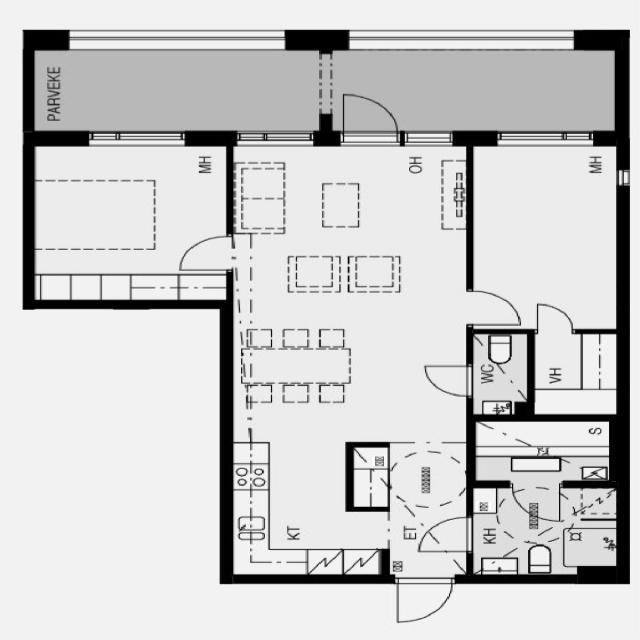door: (330, 78, 403, 150), (386, 573, 454, 620), (178, 228, 245, 274), (467, 284, 526, 332), (506, 481, 572, 523), (526, 298, 579, 344), (416, 364, 488, 396), (408, 520, 482, 550)
window: (75, 122, 190, 149), (492, 120, 601, 146), (226, 121, 306, 144), (396, 131, 461, 149), (610, 163, 636, 194)
zone: (226, 142, 478, 444), (20, 136, 232, 304), (468, 140, 623, 330), (223, 444, 394, 585), (472, 481, 620, 578), (471, 424, 626, 486), (528, 329, 619, 410), (470, 330, 527, 411)
